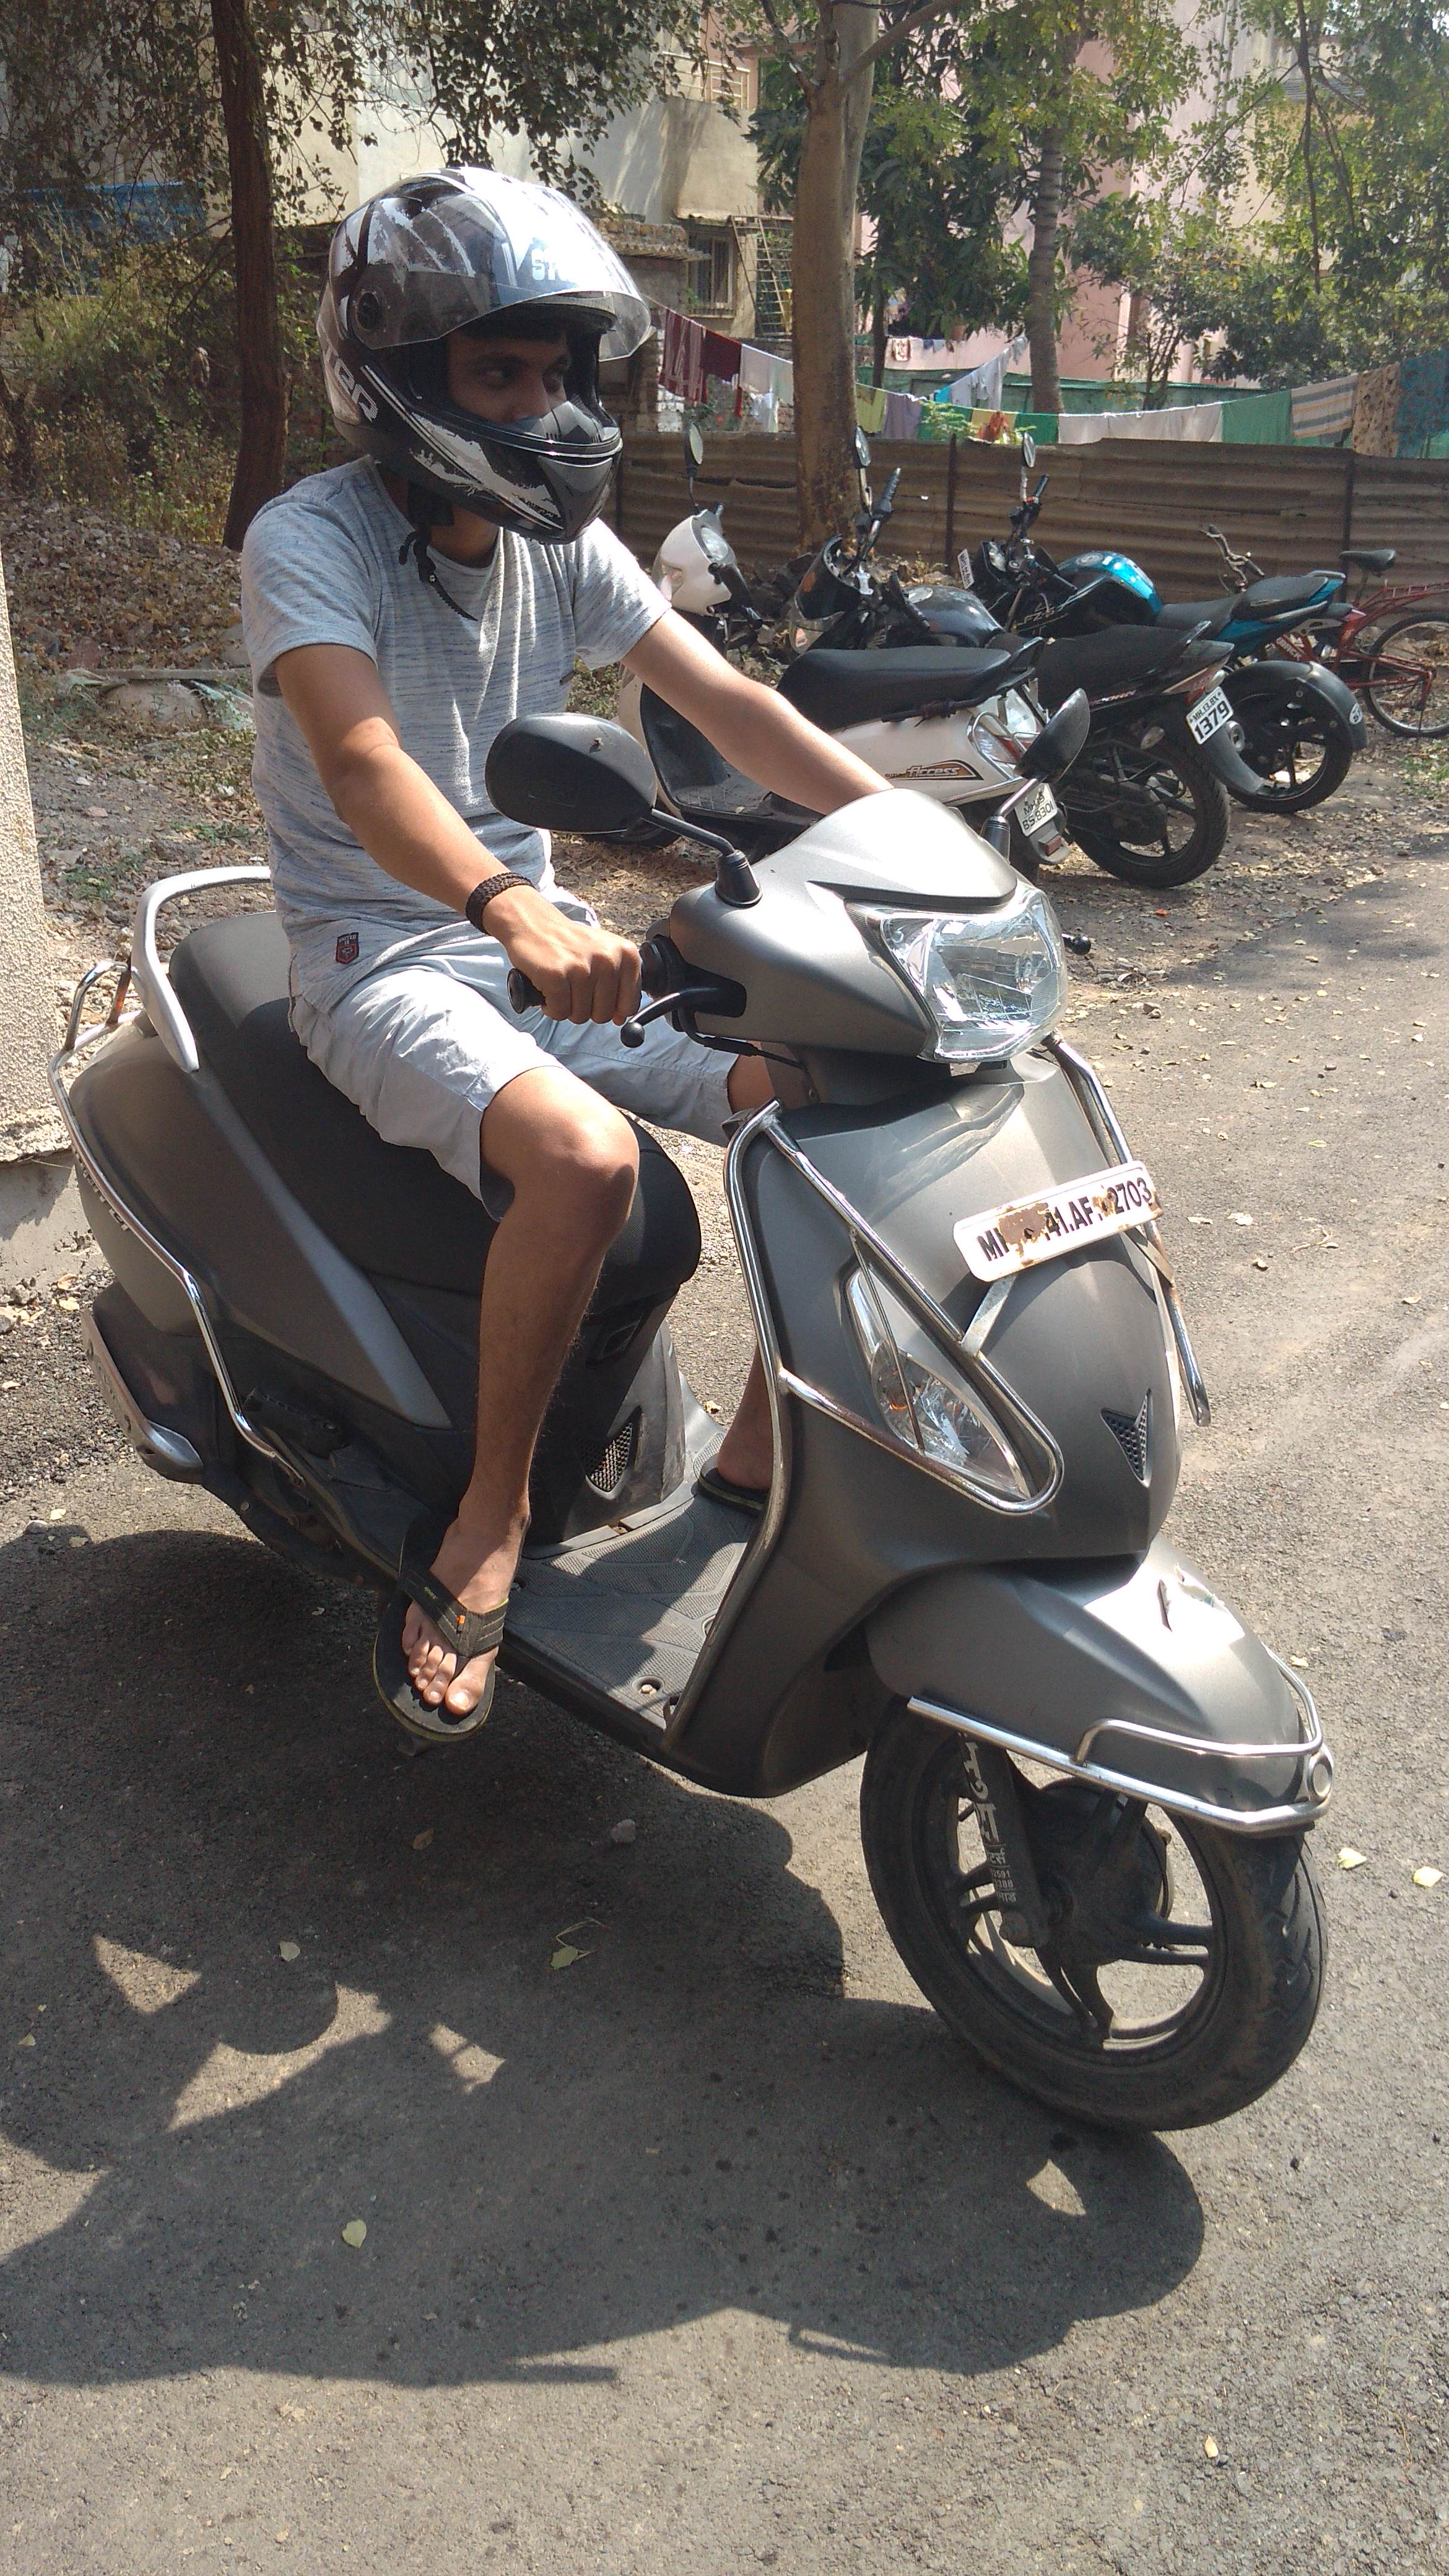helmet: (203, 161, 893, 1081)
